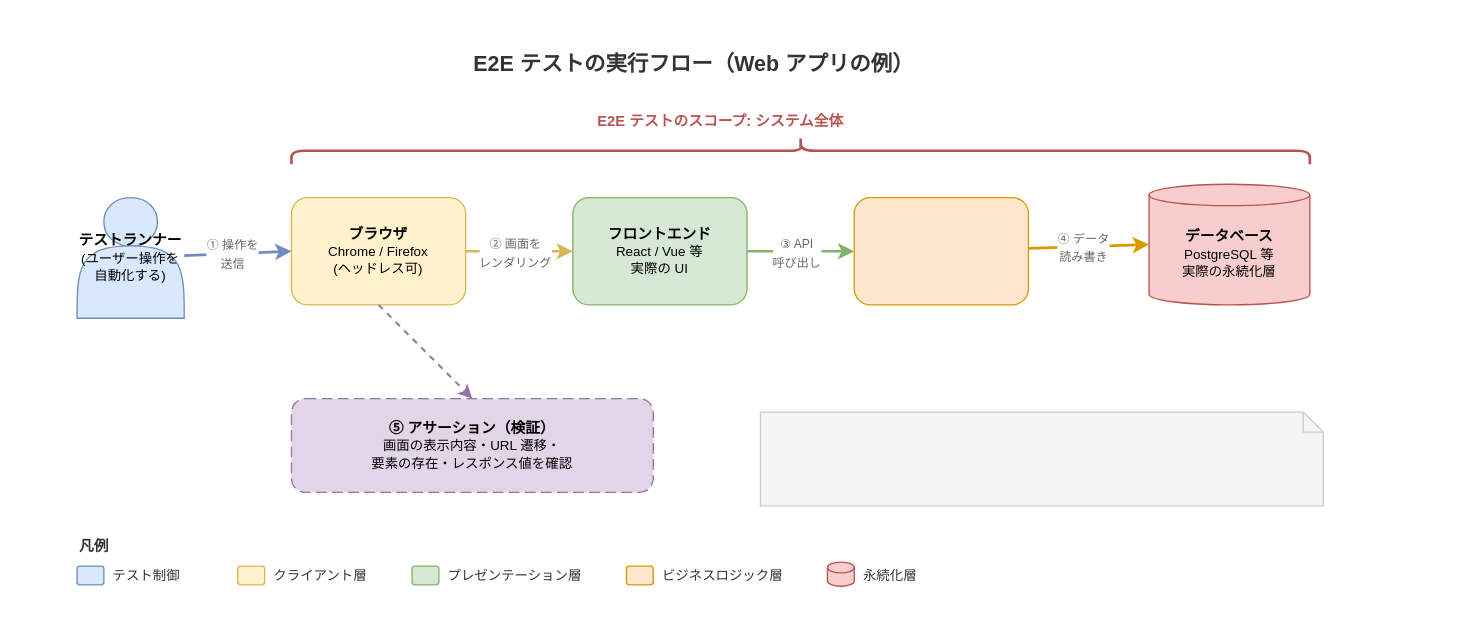
The diagram is 1466 pixels wide and 635 high, and some of its shapes have lost their labels. Here are the shapes that lost their labels. From the top down, the box of each, then its label:
(853, 196, 1028, 305): API サーバ Go / C# 等 実際のバックエンド
(759, 411, 1323, 506): E2E テストの核心: ユーザーと同じ経路（ブラウザ → フロント → API → DB）を 全て通過させて、システム全体が正しく動作するかを検証する
